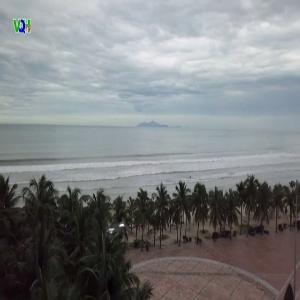drone: (77, 191, 154, 268)
